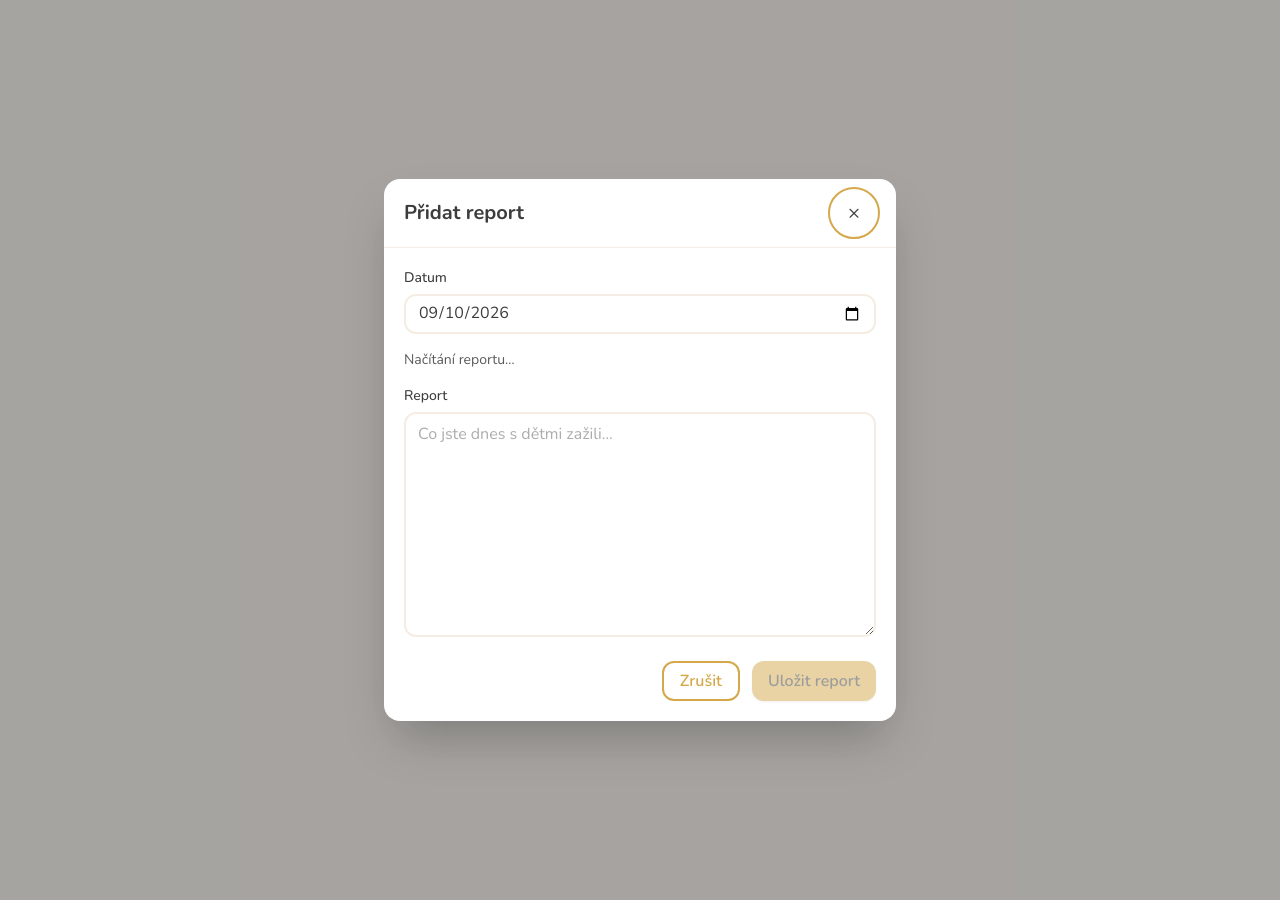
it: does not use a stale report when the selected date changes
Step 1. Type "2026-09-11" into the date field labelled "Datum" → (640, 314), box [404,294,876,334]
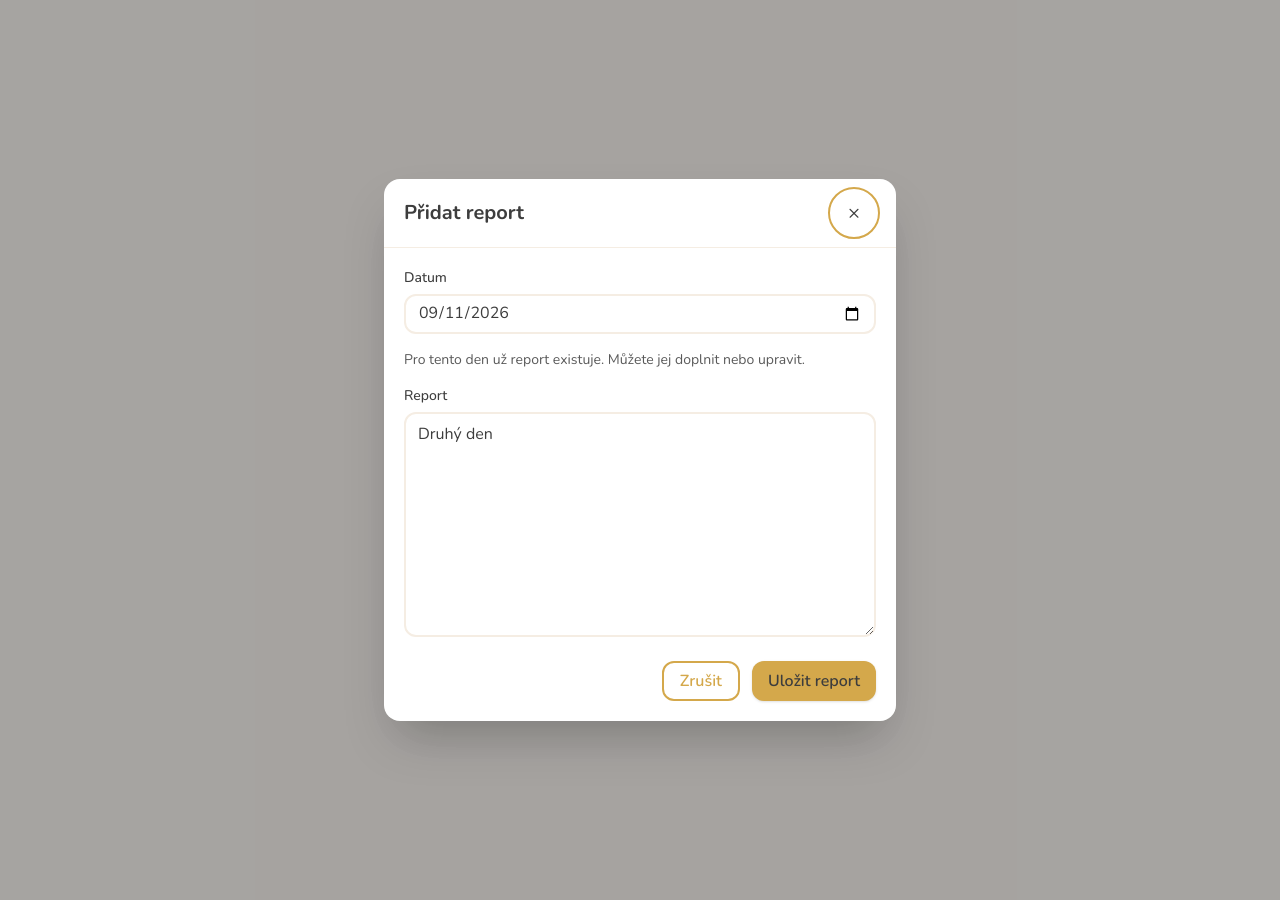
Now the text box labelled "Report" holds "Druhý den", box [404,412,876,637]
